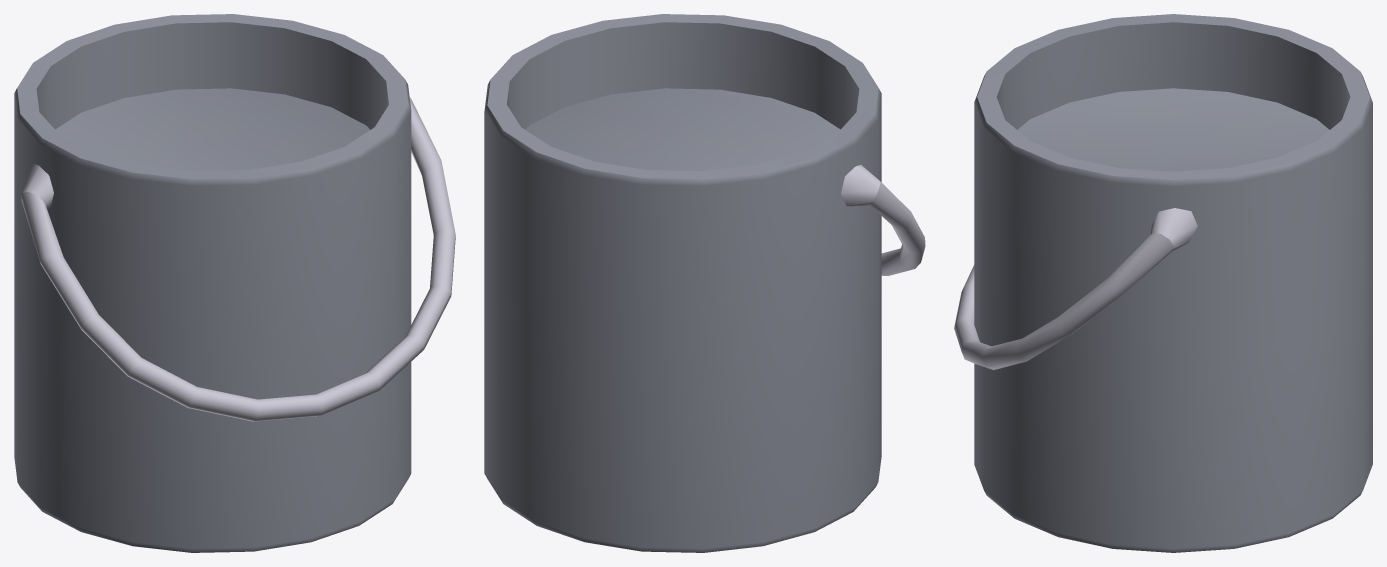
The model's file is can_02.fbx.
3 views of the same model, side by side, from view 1: azimuth 30°, elevation 25°; view 2: azimuth 150°, elevation 25°; view 3: azimuth 270°, elevation 25° (orthographic).
Parts seen in each view (by area): view 1: can_02; view 2: can_02; view 3: can_02.
Boxes of the visible parts, x1,y1,x2,y2 form: can_02: [14, 14, 455, 552]; can_02: [484, 14, 925, 552]; can_02: [954, 14, 1372, 552].
Size of the model in its own units: 1.91 by 1.7 by 1.73.
2 materials, 2 textured.
